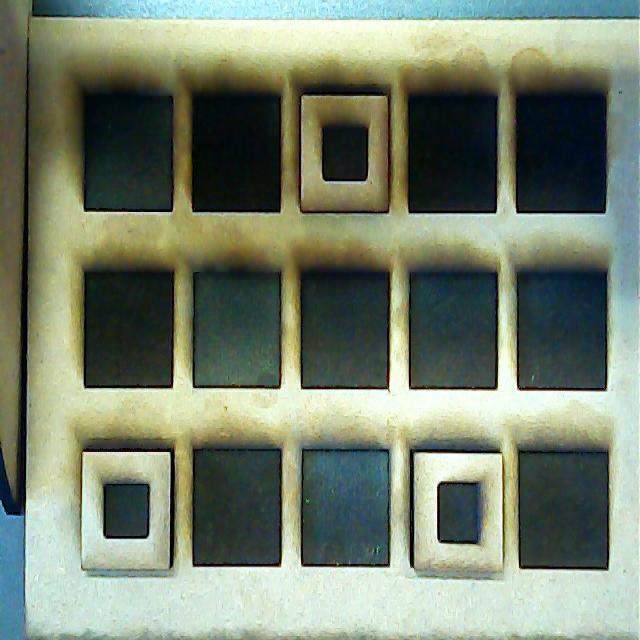square: (82, 444, 175, 572), (413, 449, 505, 578), (300, 85, 392, 209)
